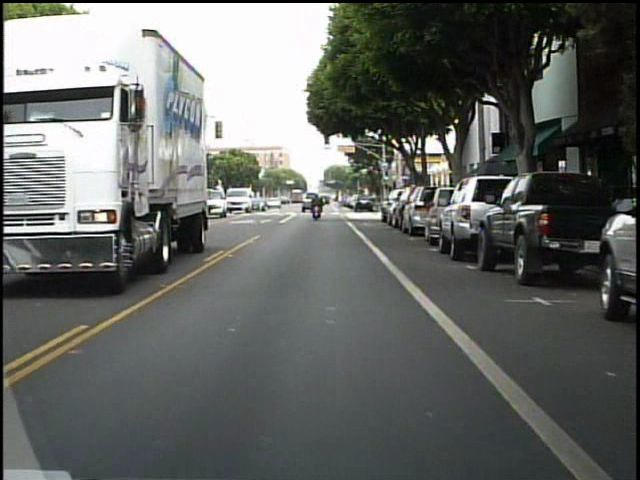person: (311, 192, 325, 222)
